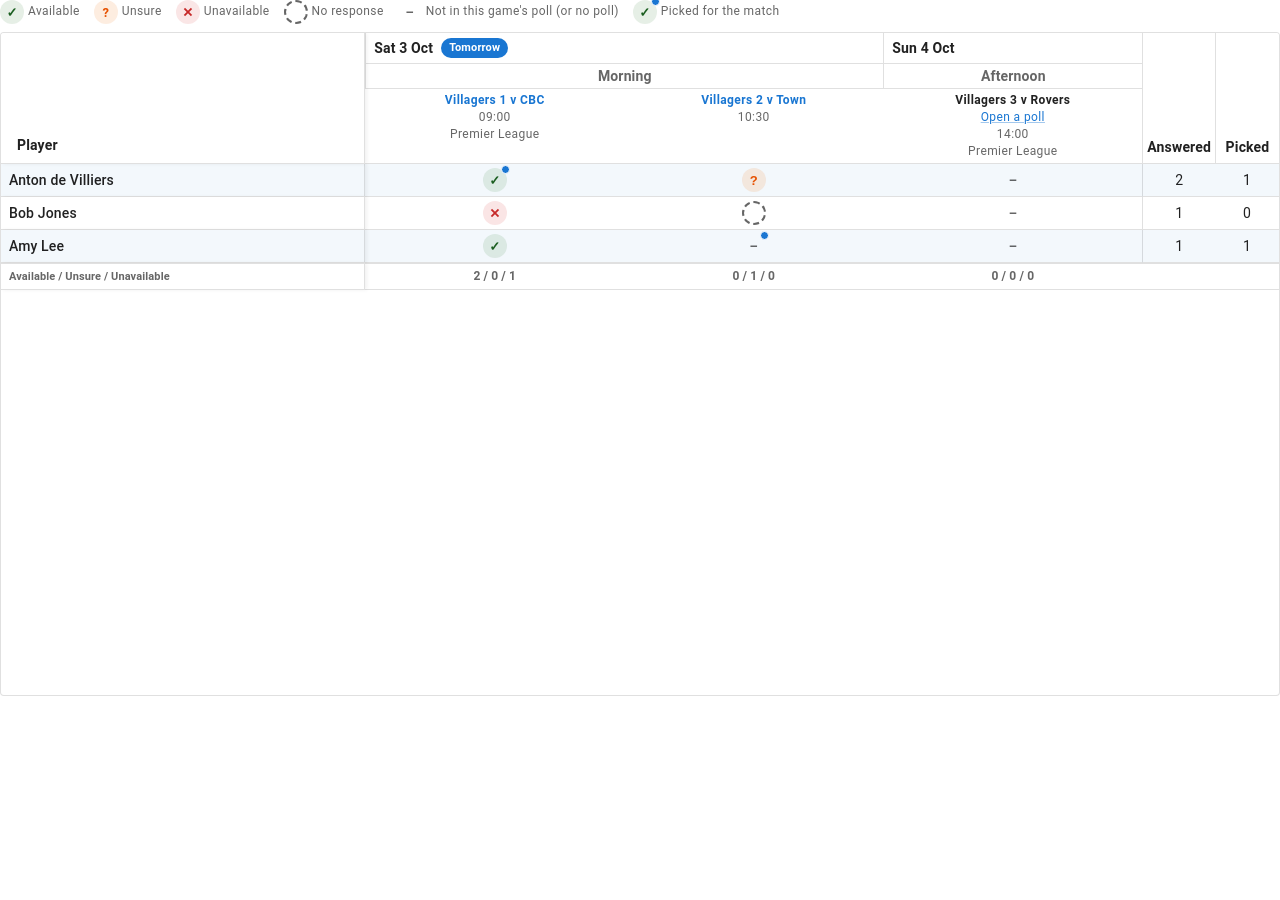
Test case: AvailabilityGrid › changing an answer (085 F) › a cell with a poll is a button named by its cell label that opens the answer menu instead of navigating
Click the button named "Anton de Villiers, Sat 3 Oct Morning, Villagers 1 v CBC: Available, group poll, picked" at (495, 180), box [483, 168, 507, 192]
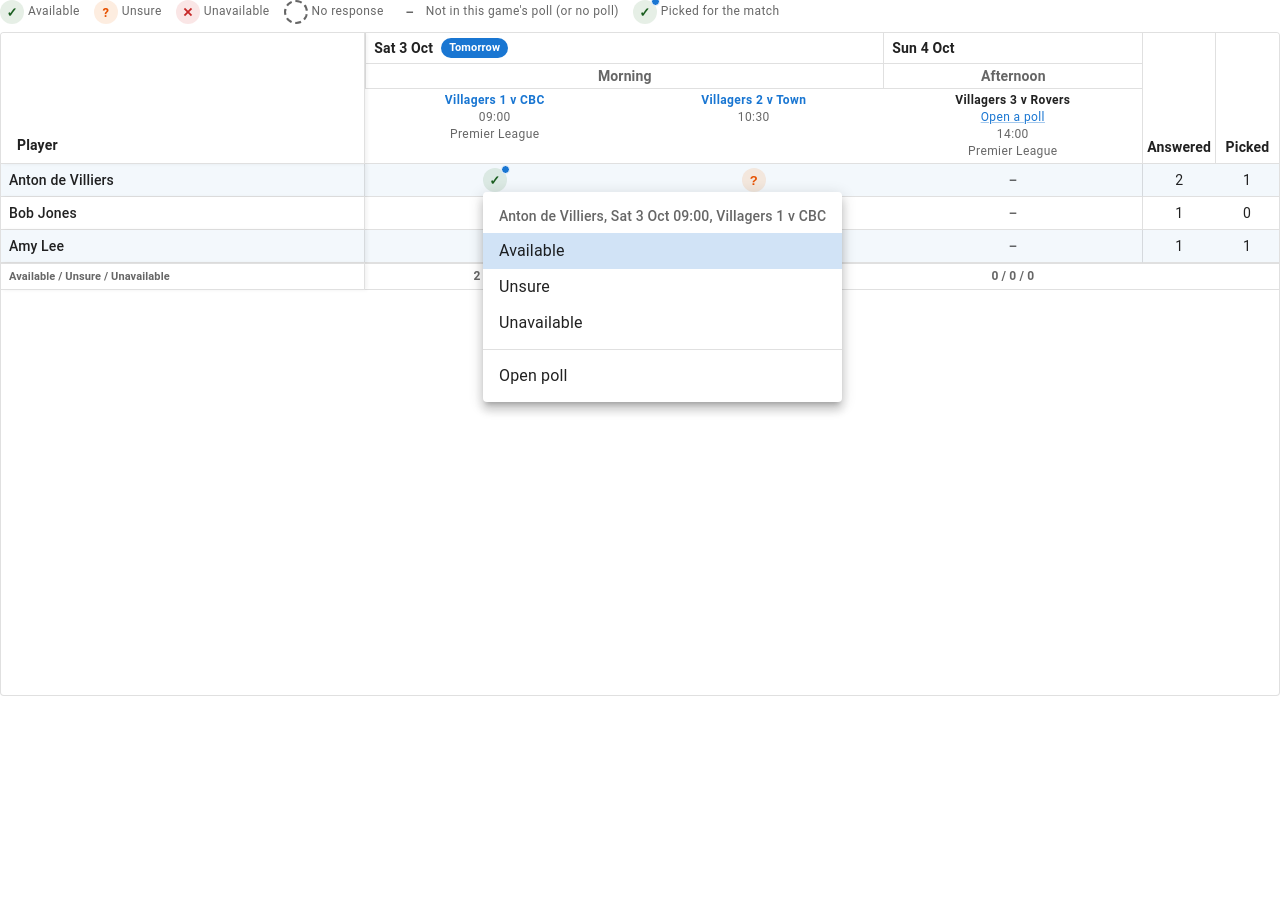
expect the text "Anton de Villiers, Sat 3 Oct 09:00, Villagers 1 v CBC" is shown: met, box [483, 200, 842, 233]
expect the menu item "Unsure" is shown: met, box [499, 277, 550, 296]
expect the menu item "Unavailable" is shown: met, box [499, 313, 583, 332]
